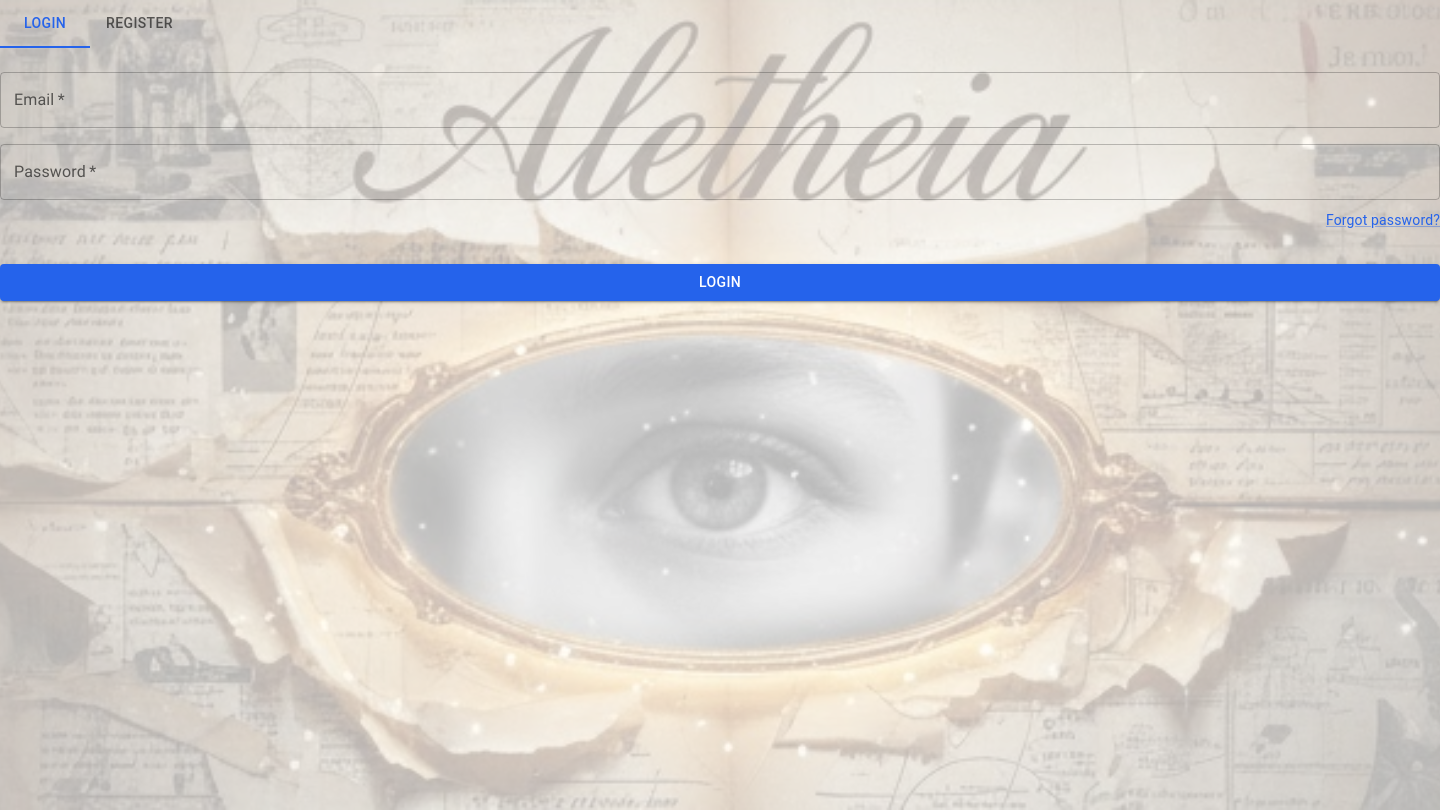
Test case: Authentication Flow Integration › Login Flow › should handle login error and display message
Step 1. Type "test@example.com" into the field labelled "Email *" → (720, 100), box [0,72,1439,128]
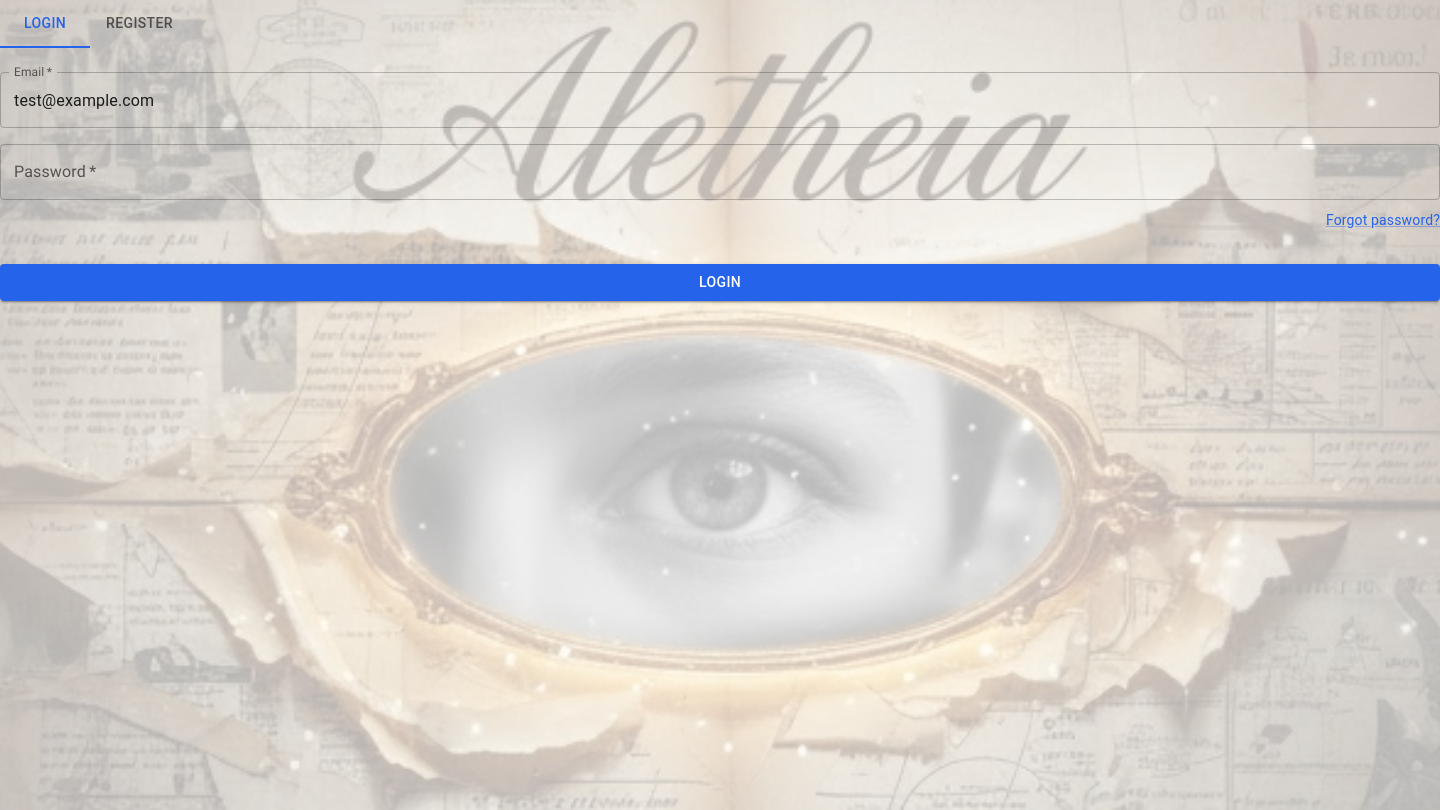
Step 2. Type "wrongpassword" into the password field labelled "Password *" → (720, 172), box [0,144,1439,200]
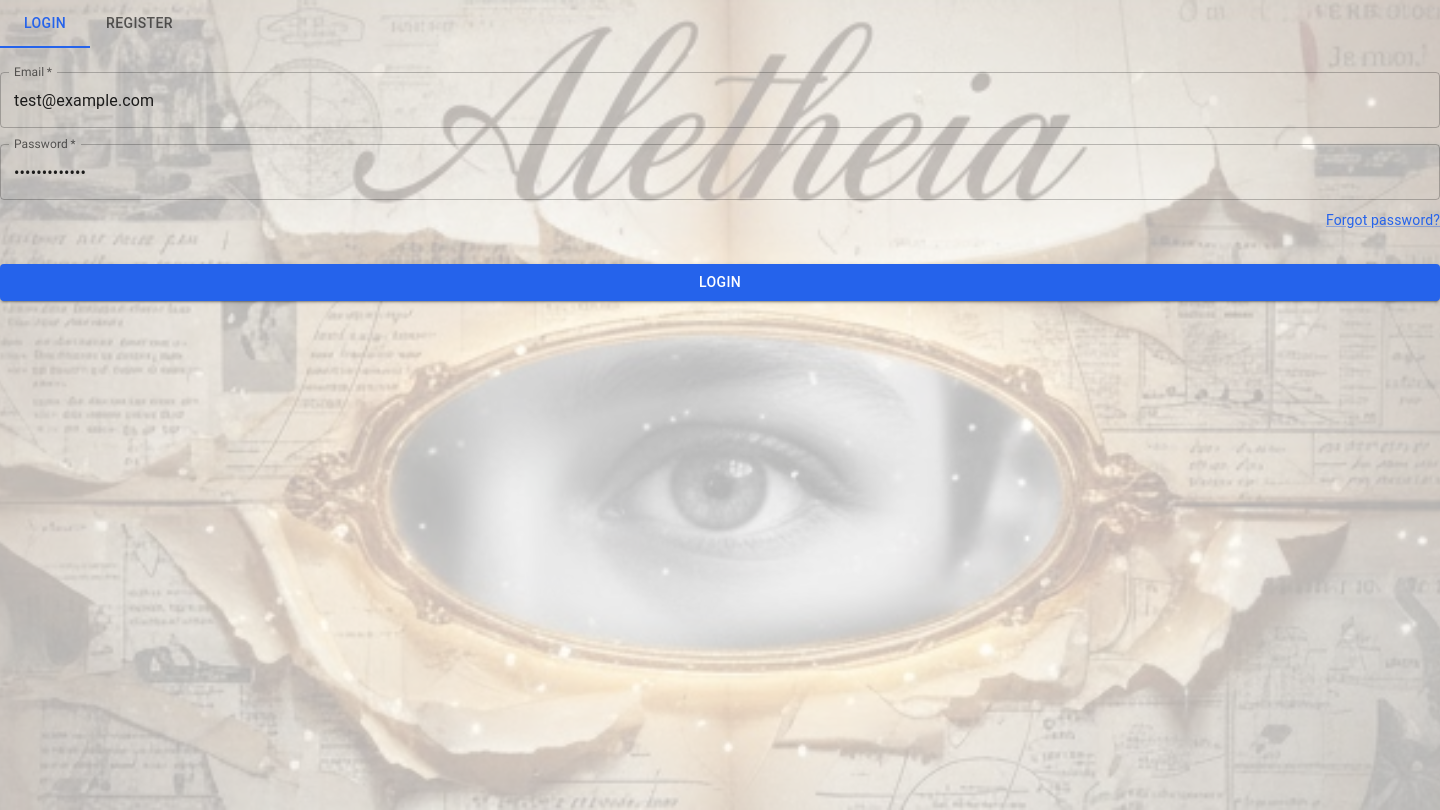
Step 3. Click the button "Login" → (720, 282), box [0,264,1439,300]
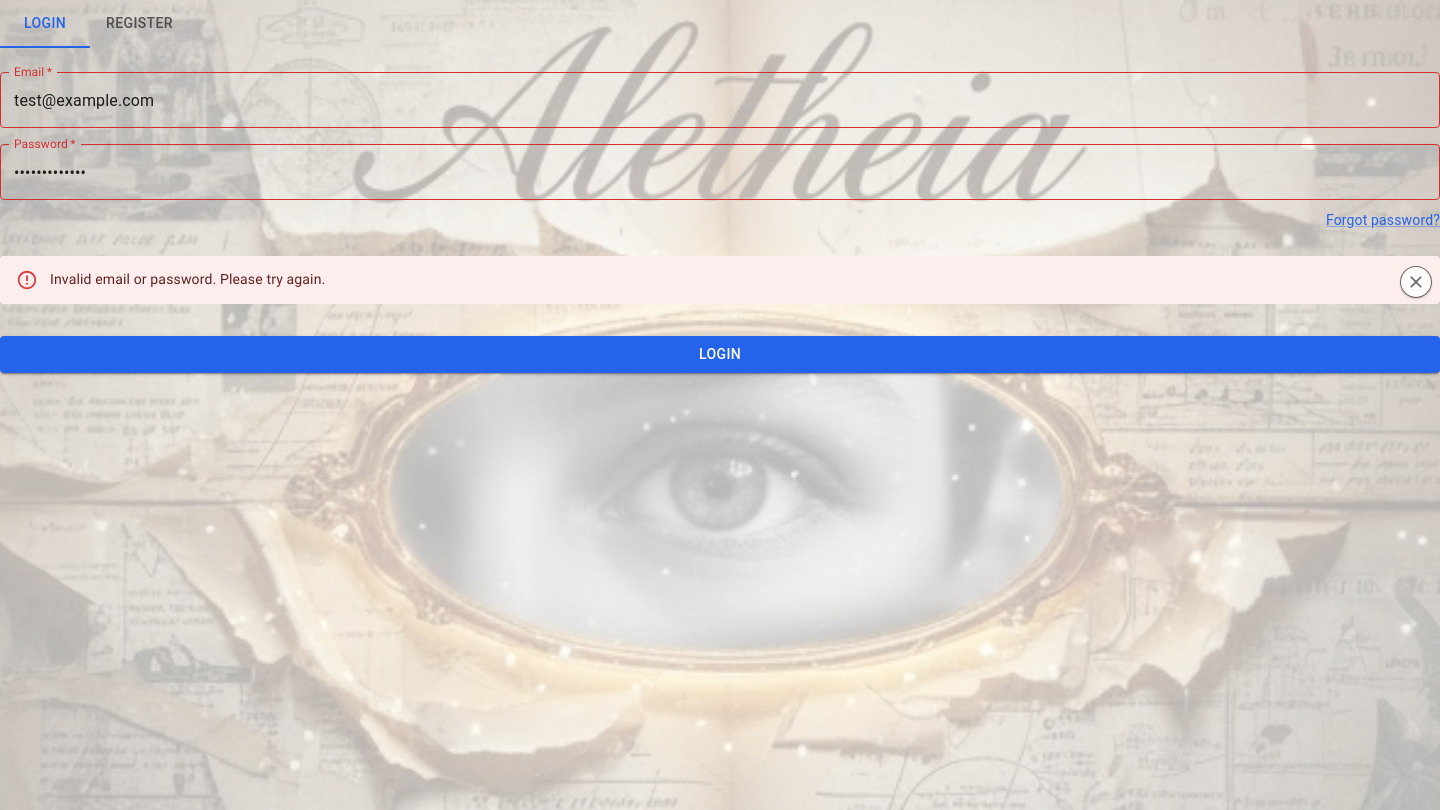
Now the text "Invalid email or password. Please try again." is shown, box [50,272,325,288]
